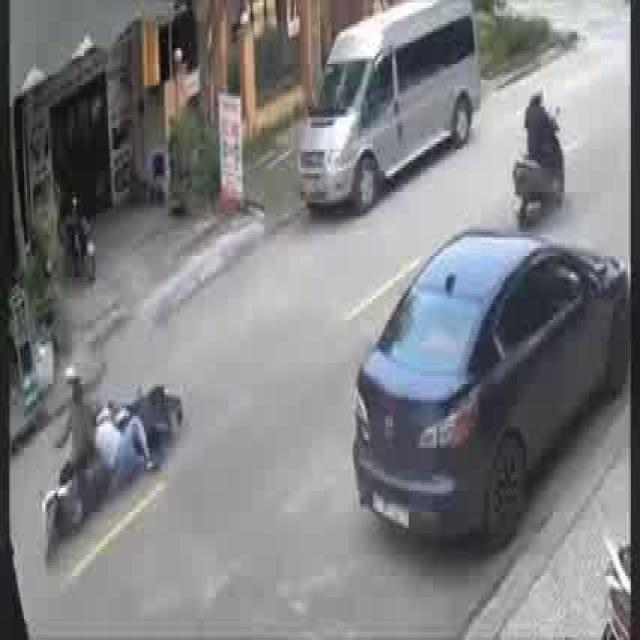multiple_accident: (40, 379, 183, 585)
normal: (307, 226, 640, 574), (276, 0, 487, 221), (500, 76, 584, 231)
